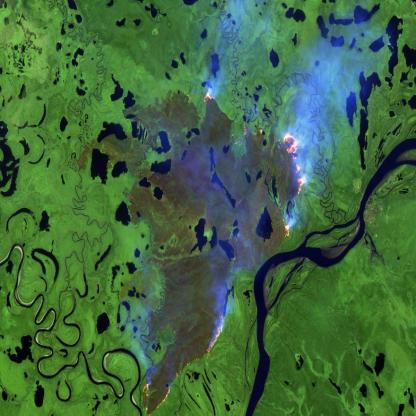fire: (270, 127, 310, 240), (200, 86, 222, 114)
